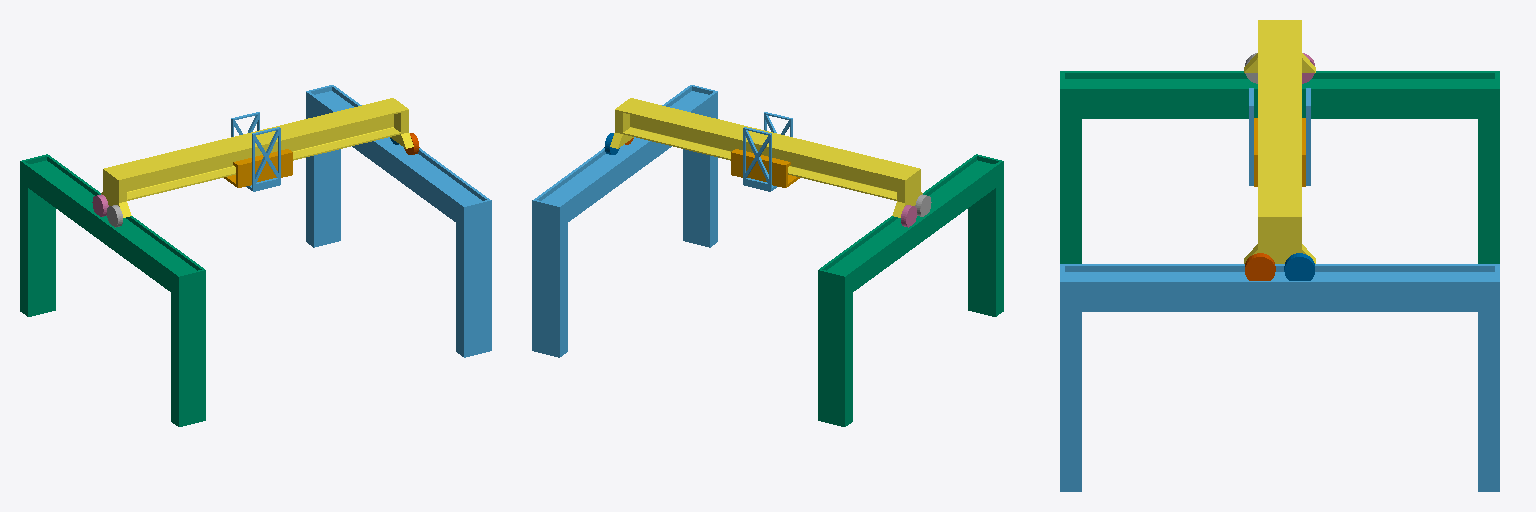
URDF robot description (ur10_crane):
<?xml version="1.0" encoding="utf-8"?>
<!-- =================================================================================== -->
<!-- |    This document was autogenerated by xacro from ur10_crane.xacro               | -->
<!-- |    EDITING THIS FILE BY HAND IS NOT RECOMMENDED                                 | -->
<!-- =================================================================================== -->
<robot name="ur10_crane">
  <gazebo>
    <plugin filename="libgazebo_ros_control.so" name="gazebo_ros_control">
      <robotNamespace>gantry_crane</robotNamespace>
      <controlPeriod>0.001</controlPeriod>
      <robotSimType>gazebo_ros_control/DefaultRobotHWSim</robotSimType>
    </plugin>
  </gazebo>
  <gazebo reference="left_support_arch_link">
    <mu1>1.4</mu1>
    <mu2>1.4</mu2>
    <material>Gazebo/DarkYellow</material>
  </gazebo>
  <gazebo reference="right_support_arch_link">
    <mu1>1.4</mu1>
    <mu2>1.4</mu2>
    <material>Gazebo/DarkYellow</material>
  </gazebo>
  <gazebo reference="h_beam_link">
    <mu1>0.5</mu1>
    <mu2>0.5</mu2>
    <material>Gazebo/DarkGrey</material>
  </gazebo>
  <gazebo reference="trolly_link">
    <mu1>0.5</mu1>
    <mu2>0.5</mu2>
    <material>Gazebo/DarkYellow</material>
  </gazebo>
  <gazebo reference="crane_link">
    <mu1>0.5</mu1>
    <mu2>0.5</mu2>
    <material>Gazebo/DarkGrey</material>
  </gazebo>
  <link name="world"/>
  <joint name="world_joint_left" type="fixed">
    <parent link="world"/>
    <child link="left_support_arch_link"/>
    <origin rpy="0 0 0" xyz="2.6 0 0"/>
  </joint>
  <joint name="world_joint_right" type="fixed">
    <parent link="world"/>
    <child link="right_support_arch_link"/>
    <origin rpy="0 0 0" xyz="-2.6 0 0"/>
  </joint>
  <!--Support_arch left side -->
  <link name="left_support_arch_link">
    <visual>
      <origin rpy="0 0 0" xyz="0 0 0"/>
      <geometry>
        <mesh filename="package://gantry_robot_hvl/meshes/support_arch_v2.stl" scale="0.0005 0.0005 0.00075"/>
      </geometry>
    </visual>
    <collision>
      <origin rpy="0 0 1.57057" xyz="0 0 1.75"/>
      <geometry>
        <box size="5 0.5 3.3"/>
      </geometry>
    </collision>
    <inertial>
      <origin rpy="0 0 1.57057" xyz="0 0 1.75"/>
      <mass value="8.25"/>
      <inertia ixx="7.65875" ixy="0.0" ixz="0.0" iyy="24.674375" iyz="0.0" izz="17.359375"/>
    </inertial>
  </link>
  <!--Support_arch right side -->
  <link name="right_support_arch_link">
    <visual>
      <origin rpy="0 0 0" xyz="0 0 0"/>
      <geometry>
        <mesh filename="package://gantry_robot_hvl/meshes/support_arch_v2.stl" scale="0.0005 0.0005 0.00075"/>
      </geometry>
    </visual>
    <collision>
      <origin rpy="0 0 1.57057" xyz="0 0 1.75"/>
      <geometry>
        <box size="5 0.5 3.3"/>
      </geometry>
    </collision>
    <inertial>
      <origin rpy="0 0 1.57057" xyz="0 0 1.75"/>
      <mass value="8.25"/>
      <inertia ixx="7.65875" ixy="0.0" ixz="0.0" iyy="24.674375" iyz="0.0" izz="17.359375"/>
    </inertial>
  </link>
  <link name="h_beam_link">
    <visual>
      <origin rpy="0 0 0" xyz="-2.6 -0.25 0.25"/>
      <geometry>
        <mesh filename="package://gantry_robot_hvl/meshes/H-Beam_v3.stl" scale="0.5 0.5 0.5"/>
      </geometry>
    </visual>
    <collision>
      <origin rpy="0 0 0" xyz="-2.6 0 0.05"/>
      <geometry>
        <box size="10 0.1 0.75"/>
      </geometry>
    </collision>
    <inertial>
      <origin rpy="0 0 0" xyz="-2.6 0 0.05"/>
      <mass value="0.75"/>
      <inertia ixx="0.03578125" ixy="0.0" ixz="0.0" iyy="6.28515625" iyz="0.0" izz="6.250625"/>
    </inertial>
  </link>
  <!-- ====================== H-Beam left joint ============================== -->
  <joint name="h_beam_joint_left" type="prismatic">
    <origin rpy="0 0 0" xyz="0 0 3.1"/>
    <parent link="left_support_arch_link"/>
    <child link="h_beam_link"/>
    <axis rpy="0 0 0" xyz="0 1 0"/>
    <calibration rising="0.0"/>
    <dynamics damping="0.0" friction="1.0"/>
    <limit effort="30" lower="-2" upper="2" velocity="1.0"/>
    <safety_controller k_position="15" k_velocity="10" soft_lower_limit="-1.75" soft_upper_limit="1.75"/>
  </joint>
  <!-- H-beam wheels -->
  <link name="front_left_wheel">
    <visual name="flw">
      <origin rpy="0 0 0" xyz="0 0 0 "/>
      <geometry>
        <cylinder length="0.1" radius="0.175"/>
      </geometry>
    </visual>
    <collision>
      <origin rpy="0 0 0" xyz="0 0 0"/>
      <geometry>
        <cylinder length="0.1" radius="0.175"/>
      </geometry>
    </collision>
  </link>
  <joint name="front_left_wheel_joint" type="fixed">
    <origin rpy="1.57057 0 1.57057" xyz="0.1 0.225 -0.375"/>
    <child link="front_left_wheel"/>
    <parent link="h_beam_link"/>
  </joint>
  <link name="back_left_wheel">
    <visual name="blw">
      <origin rpy="0 0 0" xyz="0 0 0 "/>
      <geometry>
        <cylinder length="0.1" radius="0.175"/>
      </geometry>
    </visual>
    <collision>
      <origin rpy="0 0 0" xyz="0 0 0 "/>
      <geometry>
        <cylinder length="0.1" radius="0.175"/>
      </geometry>
    </collision>
  </link>
  <joint name="back_left_wheel_joint" type="fixed">
    <origin rpy="1.57057 0 1.57057" xyz="0.1 -0.225 -0.375"/>
    <child link="back_left_wheel"/>
    <parent link="h_beam_link"/>
  </joint>
  <link name="front_right_wheel">
    <visual name="frw">
      <origin rpy="0 0 0" xyz="0 0 0 "/>
      <geometry>
        <cylinder length="0.1" radius="0.175"/>
      </geometry>
    </visual>
    <collision>
      <origin rpy="0 0 0" xyz="0 0 0 "/>
      <geometry>
        <cylinder length="0.1" radius="0.175"/>
      </geometry>
    </collision>
  </link>
  <joint name="front_right_wheel_joint" type="fixed">
    <origin rpy="1.57057 0 1.57057" xyz="-5.3 0.225 -0.375"/>
    <child link="front_right_wheel"/>
    <parent link="h_beam_link"/>
  </joint>
  <link name="back_right_wheel">
    <visual name="brw">
      <origin rpy="0 0 0" xyz="0 0 0 "/>
      <geometry>
        <cylinder length="0.1" radius="0.175"/>
      </geometry>
    </visual>
    <collision>
      <origin rpy="0 0 0" xyz="0 0 0"/>
      <geometry>
        <cylinder length="0.1" radius="0.175"/>
      </geometry>
    </collision>
  </link>
  <joint name="back_right_wheel_joint" type="fixed">
    <origin rpy="1.57057 0 1.57057" xyz="-5.3 -0.225 -0.375"/>
    <child link="back_right_wheel"/>
    <parent link="h_beam_link"/>
  </joint>
  <!-- ==============Trolly================ -->
  <link name="trolly_link">
    <visual>
      <origin rpy="0 0 0" xyz="0 0 0"/>
      <geometry>
        <mesh filename="package://gantry_robot_hvl/meshes/trolly_v3.stl" scale="0.005 0.005 0.005"/>
      </geometry>
    </visual>
    <collision>
      <origin rpy="0 0 0" xyz="0 0 0"/>
      <geometry>
        <box size="1.2 2 0.1"/>
      </geometry>
    </collision>
    <inertial>
      <origin rpy="0 0 0" xyz="0 0 0"/>
      <mass value="0.24"/>
      <inertia ixx="0.0802" ixy="0.0" ixz="0.0" iyy="0.029" iyz="0.0" izz="0.1088"/>
    </inertial>
  </link>
  <joint name="trolly_joint" type="prismatic">
    <origin rpy="0 0 1.57057" xyz="-2.6 0 -0.375"/>
    <parent link="h_beam_link"/>
    <child link="trolly_link"/>
    <axis rpy="0 0 0" xyz="0 1 0"/>
    <calibration rising="0.0"/>
    <dynamics damping="0.0" friction="1.0"/>
    <limit effort="30" lower="-2" upper="2" velocity="1.0"/>
    <safety_controller k_position="15" k_velocity="10" soft_lower_limit="-1.75" soft_upper_limit="1.75"/>
  </joint>
  <!-- ========================= Crane ======================-->
  <link name="crane_link">
    <visual>
      <origin rpy="1.57057 0 0" xyz="0 0 0"/>
      <geometry>
        <mesh filename="package://gantry_robot_hvl/meshes/crane_v3.stl" scale="0.005 0.005 0.005"/>
      </geometry>
    </visual>
    <collision>
      <origin rpy="0 0 0" xyz="0 0 0.1"/>
      <geometry>
        <box size="1.4 1 0.1"/>
      </geometry>
    </collision>
    <inertial>
      <origin rpy="1.57057 0 0" xyz="0 0 0.1"/>
      <mass value="0.14"/>
      <inertia ixx="0.0117833333333" ixy="0.0" ixz="0.0" iyy="0.0229833333333" iyz="0.0" izz="0.0345333333333"/>
    </inertial>
  </link>
  <joint name="crane_joint" type="prismatic">
    <origin rpy="0 0 0" xyz="0 0 0"/>
    <parent link="trolly_link"/>
    <child link="crane_link"/>
    <axis rpy="0 0 0" xyz="0 0 1"/>
    <calibration rising="0.0"/>
    <dynamics damping="0.0" friction="10.0"/>
    <limit effort="30" lower="-1.1" upper="0" velocity="1.0"/>
    <safety_controller k_position="15" k_velocity="10" soft_lower_limit="-1" soft_upper_limit="0"/>
  </joint>
  <!-- ========================transmission============================ -->
  <transmission name="h_beam_transmission">
    <type>transmission_interface/SimpleTransmission</type>
    <joint name="h_beam_joint_left">
      <hardwareInterface>hardware_interface/PositionJointInterface</hardwareInterface>
    </joint>
    <actuator name="h_beam_motor">
      <hardwareInterface>hardware_interface/PositionJointInterface</hardwareInterface>
      <mechanicalReduction>1</mechanicalReduction>
    </actuator>
  </transmission>
  <transmission name="trolly_trasmission">
    <type>transmission_interface/SimpleTransmission</type>
    <joint name="trolly_joint">
      <hardwareInterface>hardware_interface/PositionJointInterface</hardwareInterface>
    </joint>
    <actuator name="trolly_motor">
      <hardwareInterface>hardware_interface/PositionJointInterface</hardwareInterface>
      <mechanicalReduction>1</mechanicalReduction>
    </actuator>
  </transmission>
  <transmission name="crane_transmission">
    <type>transmission_interface/SimpleTransmission</type>
    <joint name="crane_joint">
      <hardwareInterface>hardware_interface/PositionJointInterface</hardwareInterface>
    </joint>
    <actuator name="crane_motor">
      <hardwareInterface>hardware_interface/PositionJointInterface</hardwareInterface>
      <mechanicalReduction>1</mechanicalReduction>
    </actuator>
  </transmission>
  <!--
  Author: [author]
  Contributers: [author], [author], [author]
-->
  <!-- <link name="world"/>
  <joint name="world_joint_left" type="fixed">
    <parent link="world"/>
    <child link="left_support_arch_link"/>
    <origin rpy="0 0 0" xyz="2.6 0 0"/>
  </joint>
  <joint name="world_joint_right" type="fixed">
    <parent link="world"/>
    <child link="right_support_arch_link"/>
    <origin rpy="0 0 0" xyz="-2.6 0 0"/>
  </joint> -->
  <joint name="attachment_joint" type="fixed">
    <parent link="crane_link"/>
    <child link="base_link"/>
    <origin rpy="3.141592 0 0" xyz="0.0 0.0 -0.1"/>
  </joint>
  <!-- measured from model -->
  <link name="base_link">
    <visual>
      <geometry>
        <mesh filename="package://ur_description/meshes/ur10/visual/base.dae"/>
      </geometry>
      <material name="LightGrey">
        <color rgba="0.7 0.7 0.7 1.0"/>
      </material>
    </visual>
    <collision>
      <geometry>
        <mesh filename="package://ur_description/meshes/ur10/collision/base.stl"/>
      </geometry>
    </collision>
    <inertial>
      <mass value="4.0"/>
      <origin rpy="0 0 0" xyz="0.0 0.0 0.0"/>
      <inertia ixx="0.0061063308908" ixy="0.0" ixz="0.0" iyy="0.0061063308908" iyz="0.0" izz="0.01125"/>
    </inertial>
  </link>
  <joint name="shoulder_pan_joint" type="revolute">
    <parent link="base_link"/>
    <child link="shoulder_link"/>
    <origin rpy="0.0 0.0 0.0" xyz="0.0 0.0 0.1273"/>
    <axis xyz="0 0 1"/>
    <limit effort="330.0" lower="-3.14159265359" upper="3.14159265359" velocity="2.16"/>
    <dynamics damping="0.0" friction="0.0"/>
  </joint>
  <link name="shoulder_link">
    <visual>
      <geometry>
        <mesh filename="package://ur_description/meshes/ur10/visual/shoulder.dae"/>
      </geometry>
      <material name="LightGrey">
        <color rgba="0.7 0.7 0.7 1.0"/>
      </material>
    </visual>
    <collision>
      <geometry>
        <mesh filename="package://ur_description/meshes/ur10/collision/shoulder.stl"/>
      </geometry>
    </collision>
    <inertial>
      <mass value="7.778"/>
      <origin rpy="0 0 0" xyz="0.0 0.0 0.0"/>
      <inertia ixx="0.0314743125769" ixy="0.0" ixz="0.0" iyy="0.0314743125769" iyz="0.0" izz="0.021875625"/>
    </inertial>
  </link>
  <joint name="shoulder_lift_joint" type="revolute">
    <parent link="shoulder_link"/>
    <child link="upper_arm_link"/>
    <origin rpy="0.0 1.57079632679 0.0" xyz="0.0 0.220941 0.0"/>
    <axis xyz="0 1 0"/>
    <limit effort="330.0" lower="-3.14159265359" upper="3.14159265359" velocity="2.16"/>
    <dynamics damping="0.0" friction="0.0"/>
  </joint>
  <link name="upper_arm_link">
    <visual>
      <geometry>
        <mesh filename="package://ur_description/meshes/ur10/visual/upperarm.dae"/>
      </geometry>
      <material name="LightGrey">
        <color rgba="0.7 0.7 0.7 1.0"/>
      </material>
    </visual>
    <collision>
      <geometry>
        <mesh filename="package://ur_description/meshes/ur10/collision/upperarm.stl"/>
      </geometry>
    </collision>
    <inertial>
      <mass value="12.93"/>
      <origin rpy="0 0 0" xyz="0.0 -0.045 0.306"/>
      <inertia ixx="0.421753803798" ixy="0.0" ixz="0.0" iyy="0.421753803798" iyz="0.0" izz="0.036365625"/>
    </inertial>
  </link>
  <joint name="elbow_joint" type="revolute">
    <parent link="upper_arm_link"/>
    <child link="forearm_link"/>
    <origin rpy="0.0 0.0 0.0" xyz="0.0 -0.1719 0.612"/>
    <axis xyz="0 1 0"/>
    <limit effort="150.0" lower="-3.14159265359" upper="3.14159265359" velocity="3.15"/>
    <dynamics damping="0.0" friction="0.0"/>
  </joint>
  <link name="forearm_link">
    <visual>
      <geometry>
        <mesh filename="package://ur_description/meshes/ur10/visual/forearm.dae"/>
      </geometry>
      <material name="LightGrey">
        <color rgba="0.7 0.7 0.7 1.0"/>
      </material>
    </visual>
    <collision>
      <geometry>
        <mesh filename="package://ur_description/meshes/ur10/collision/forearm.stl"/>
      </geometry>
    </collision>
    <inertial>
      <mass value="3.87"/>
      <origin rpy="0 0 0" xyz="0.0 0.0 0.28615"/>
      <inertia ixx="0.111069694097" ixy="0.0" ixz="0.0" iyy="0.111069694097" iyz="0.0" izz="0.010884375"/>
    </inertial>
  </link>
  <joint name="wrist_1_joint" type="revolute">
    <parent link="forearm_link"/>
    <child link="wrist_1_link"/>
    <origin rpy="0.0 1.57079632679 0.0" xyz="0.0 0.0 0.5723"/>
    <axis xyz="0 1 0"/>
    <limit effort="54.0" lower="-3.14159265359" upper="3.14159265359" velocity="3.2"/>
    <dynamics damping="0.0" friction="0.0"/>
  </joint>
  <link name="wrist_1_link">
    <visual>
      <geometry>
        <mesh filename="package://ur_description/meshes/ur10/visual/wrist1.dae"/>
      </geometry>
      <material name="LightGrey">
        <color rgba="0.7 0.7 0.7 1.0"/>
      </material>
    </visual>
    <collision>
      <geometry>
        <mesh filename="package://ur_description/meshes/ur10/collision/wrist1.stl"/>
      </geometry>
    </collision>
    <inertial>
      <mass value="1.96"/>
      <origin rpy="0 0 0" xyz="0.0 0.1149 0.0"/>
      <inertia ixx="0.0051082479567" ixy="0.0" ixz="0.0" iyy="0.0051082479567" iyz="0.0" izz="0.0055125"/>
    </inertial>
  </link>
  <joint name="wrist_2_joint" type="revolute">
    <parent link="wrist_1_link"/>
    <child link="wrist_2_link"/>
    <origin rpy="0.0 0.0 0.0" xyz="0.0 0.1149 0.0"/>
    <axis xyz="0 0 1"/>
    <limit effort="54.0" lower="-3.14159265359" upper="3.14159265359" velocity="3.2"/>
    <dynamics damping="0.0" friction="0.0"/>
  </joint>
  <link name="wrist_2_link">
    <visual>
      <geometry>
        <mesh filename="package://ur_description/meshes/ur10/visual/wrist2.dae"/>
      </geometry>
      <material name="LightGrey">
        <color rgba="0.7 0.7 0.7 1.0"/>
      </material>
    </visual>
    <collision>
      <geometry>
        <mesh filename="package://ur_description/meshes/ur10/collision/wrist2.stl"/>
      </geometry>
    </collision>
    <inertial>
      <mass value="1.96"/>
      <origin rpy="0 0 0" xyz="0.0 0.0 0.1157"/>
      <inertia ixx="0.0051082479567" ixy="0.0" ixz="0.0" iyy="0.0051082479567" iyz="0.0" izz="0.0055125"/>
    </inertial>
  </link>
  <joint name="wrist_3_joint" type="revolute">
    <parent link="wrist_2_link"/>
    <child link="wrist_3_link"/>
    <origin rpy="0.0 0.0 0.0" xyz="0.0 0.0 0.1157"/>
    <axis xyz="0 1 0"/>
    <limit effort="54.0" lower="-3.14159265359" upper="3.14159265359" velocity="3.2"/>
    <dynamics damping="0.0" friction="0.0"/>
  </joint>
  <link name="wrist_3_link">
    <visual>
      <geometry>
        <mesh filename="package://ur_description/meshes/ur10/visual/wrist3.dae"/>
      </geometry>
      <material name="LightGrey">
        <color rgba="0.7 0.7 0.7 1.0"/>
      </material>
    </visual>
    <collision>
      <geometry>
        <mesh filename="package://ur_description/meshes/ur10/collision/wrist3.stl"/>
      </geometry>
    </collision>
    <inertial>
      <mass value="0.202"/>
      <origin rpy="1.57079632679 0 0" xyz="0.0 0.07695 0.0"/>
      <inertia ixx="0.000117921661165" ixy="0.0" ixz="0.0" iyy="0.000117921661165" iyz="0.0" izz="0.000204525"/>
    </inertial>
  </link>
  <joint name="ee_fixed_joint" type="fixed">
    <parent link="wrist_3_link"/>
    <child link="ee_link"/>
    <origin rpy="0.0 0.0 1.57079632679" xyz="0.0 0.0922 0.0"/>
  </joint>
  <link name="ee_link">
    <collision>
      <geometry>
        <box size="0.01 0.01 0.01"/>
      </geometry>
      <origin rpy="0 0 0" xyz="-0.01 0 0"/>
    </collision>
  </link>
  <transmission name="shoulder_pan_trans">
    <type>transmission_interface/SimpleTransmission</type>
    <joint name="shoulder_pan_joint">
      <hardwareInterface>hardware_interface/PositionJointInterface</hardwareInterface>
    </joint>
    <actuator name="shoulder_pan_motor">
      <mechanicalReduction>1</mechanicalReduction>
    </actuator>
  </transmission>
  <transmission name="shoulder_lift_trans">
    <type>transmission_interface/SimpleTransmission</type>
    <joint name="shoulder_lift_joint">
      <hardwareInterface>hardware_interface/PositionJointInterface</hardwareInterface>
    </joint>
    <actuator name="shoulder_lift_motor">
      <mechanicalReduction>1</mechanicalReduction>
    </actuator>
  </transmission>
  <transmission name="elbow_trans">
    <type>transmission_interface/SimpleTransmission</type>
    <joint name="elbow_joint">
      <hardwareInterface>hardware_interface/PositionJointInterface</hardwareInterface>
    </joint>
    <actuator name="elbow_motor">
      <mechanicalReduction>1</mechanicalReduction>
    </actuator>
  </transmission>
  <transmission name="wrist_1_trans">
    <type>transmission_interface/SimpleTransmission</type>
    <joint name="wrist_1_joint">
      <hardwareInterface>hardware_interface/PositionJointInterface</hardwareInterface>
    </joint>
    <actuator name="wrist_1_motor">
      <mechanicalReduction>1</mechanicalReduction>
    </actuator>
  </transmission>
  <transmission name="wrist_2_trans">
    <type>transmission_interface/SimpleTransmission</type>
    <joint name="wrist_2_joint">
      <hardwareInterface>hardware_interface/PositionJointInterface</hardwareInterface>
    </joint>
    <actuator name="wrist_2_motor">
      <mechanicalReduction>1</mechanicalReduction>
    </actuator>
  </transmission>
  <transmission name="wrist_3_trans">
    <type>transmission_interface/SimpleTransmission</type>
    <joint name="wrist_3_joint">
      <hardwareInterface>hardware_interface/PositionJointInterface</hardwareInterface>
    </joint>
    <actuator name="wrist_3_motor">
      <mechanicalReduction>1</mechanicalReduction>
    </actuator>
  </transmission>
  <gazebo reference="shoulder_link">
    <selfCollide>true</selfCollide>
  </gazebo>
  <gazebo reference="upper_arm_link">
    <selfCollide>true</selfCollide>
  </gazebo>
  <gazebo reference="forearm_link">
    <selfCollide>true</selfCollide>
  </gazebo>
  <gazebo reference="wrist_1_link">
    <selfCollide>true</selfCollide>
  </gazebo>
  <gazebo reference="wrist_3_link">
    <selfCollide>true</selfCollide>
  </gazebo>
  <gazebo reference="wrist_2_link">
    <selfCollide>true</selfCollide>
  </gazebo>
  <gazebo reference="ee_link">
    <selfCollide>true</selfCollide>
  </gazebo>
  <!-- ROS base_link to UR 'Base' Coordinates transform -->
  <link name="base"/>
  <joint name="base_link-base_fixed_joint" type="fixed">
    <!-- NOTE: this rotation is only needed as long as base_link itself is
                 not corrected wrt the real robot (ie: rotated over 180
                 degrees)
      -->
    <origin rpy="0 0 -3.14159265359" xyz="0 0 0"/>
    <parent link="base_link"/>
    <child link="base"/>
  </joint>
  <!-- Frame coincident with all-zeros TCP on UR controller -->
  <link name="tool0"/>
  <joint name="wrist_3_link-tool0_fixed_joint" type="fixed">
    <origin rpy="-1.57079632679 0 0" xyz="0 0.0922 0"/>
    <parent link="wrist_3_link"/>
    <child link="tool0"/>
  </joint>
</robot>

--- Render facts (derived) ---
3 views of the same robot in one strip: view 1: azimuth 30°, elevation 25°; view 2: azimuth 150°, elevation 25°; view 3: azimuth 270°, elevation 25° (orthographic).
Robot: ur10_crane — 20 links, 19 joints (6 revolute, 3 prismatic, 10 fixed); root link world; default pose: every joint at zero.
Links seen in each view (by area): view 1: right_support_arch_link, left_support_arch_link, h_beam_link, crane_link, trolly_link; view 2: right_support_arch_link, left_support_arch_link, h_beam_link, crane_link, trolly_link; view 3: left_support_arch_link, right_support_arch_link, h_beam_link, crane_link, front_left_wheel, back_left_wheel, trolly_link.
Boxes of the visible links, x1,y1,x2,y2 form: right_support_arch_link: (20, 154, 205, 426); left_support_arch_link: (306, 85, 491, 357); h_beam_link: (101, 98, 413, 217); crane_link: (231, 112, 280, 191); trolly_link: (224, 149, 292, 187); right_support_arch_link: (818, 154, 1003, 426); left_support_arch_link: (532, 85, 717, 357); h_beam_link: (610, 98, 922, 217); crane_link: (743, 112, 792, 191); trolly_link: (731, 149, 799, 187); left_support_arch_link: (1060, 264, 1499, 491); right_support_arch_link: (1060, 71, 1499, 263); h_beam_link: (1244, 20, 1315, 263); crane_link: (1249, 88, 1310, 185); front_left_wheel: (1284, 253, 1314, 280); back_left_wheel: (1245, 253, 1275, 280); trolly_link: (1254, 118, 1305, 186).
Size in the robot's own frame: 5.7 by 5 by 3.63 metres.
5 mesh visuals loaded from 11 distinct referenced files (4 binary STL); not drawn: 7 (reference not matched to a file when rendering).